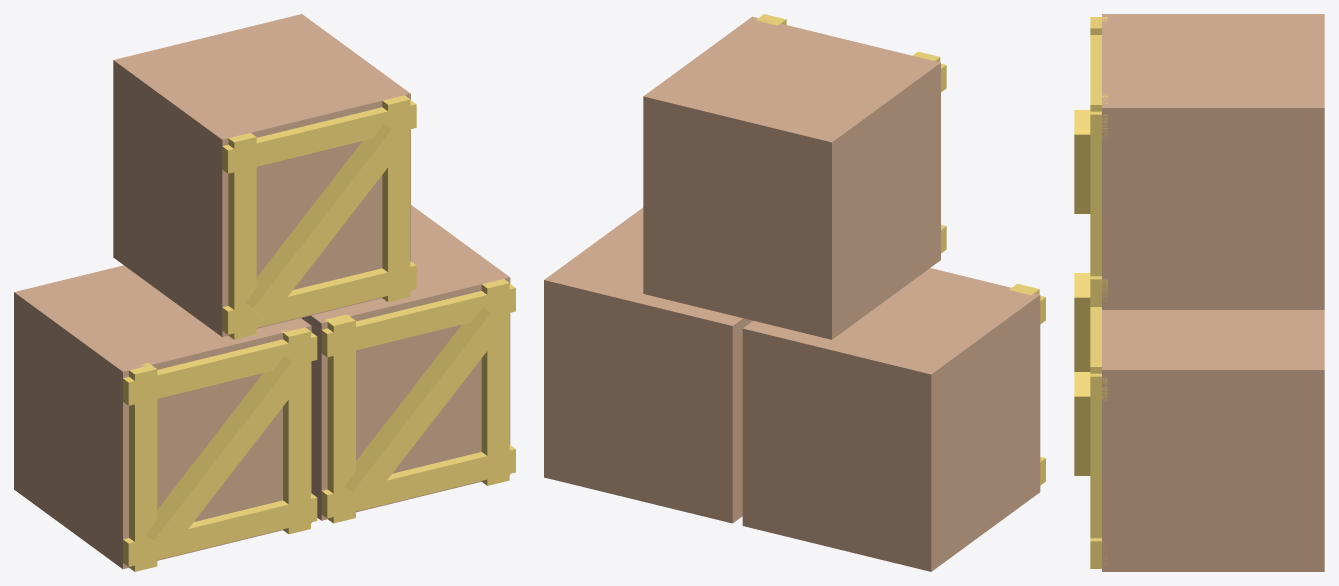
Rendered from 25_crate_stack.glb.
The picture shows the model from 3 angles, left to right: view 1: azimuth 30°, elevation 25°; view 2: azimuth 150°, elevation 25°; view 3: azimuth 270°, elevation 25°; orthographic projection. The views are drawn at different scales.
Visible parts, largest first — view 1: 25_crate_stack; view 2: 25_crate_stack; view 3: 25_crate_stack.
Boxes of the visible parts, x1=… form: 25_crate_stack: x1=14, y1=14, x2=515, y2=571; 25_crate_stack: x1=544, y1=14, x2=1045, y2=571; 25_crate_stack: x1=1074, y1=14, x2=1324, y2=571.
Size of the model in its own units: 1.56 by 1.56 by 0.855.
